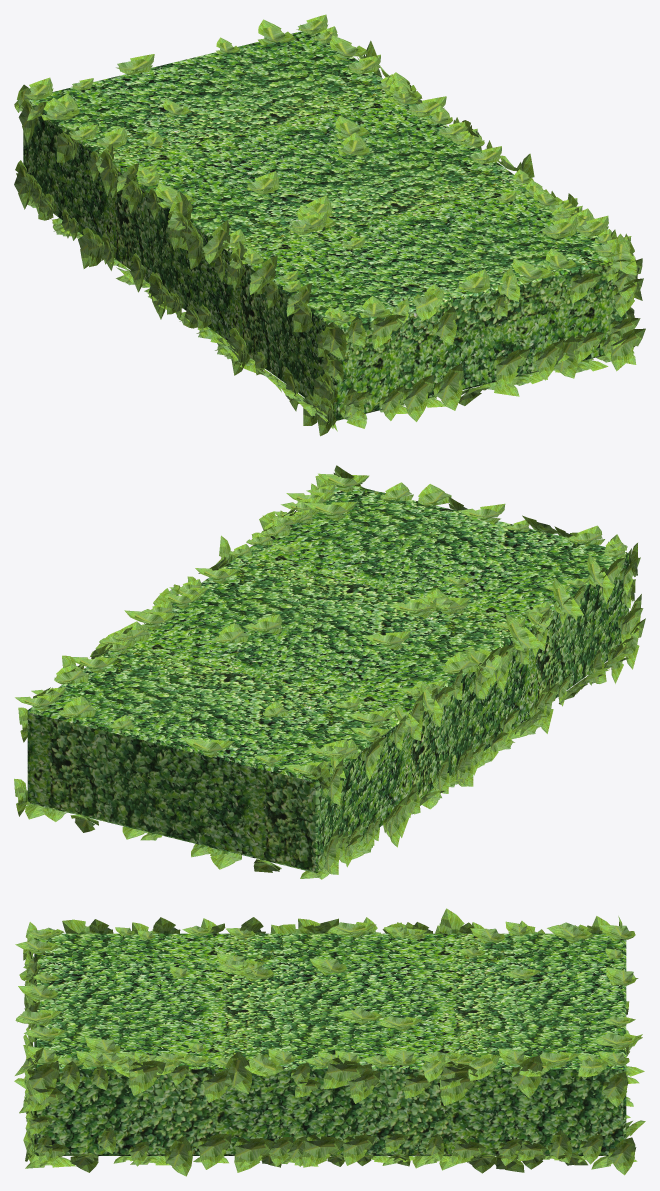
3 views of the same model, one above another, from view 1: azimuth 30°, elevation 25°; view 2: azimuth 150°, elevation 25°; view 3: azimuth 270°, elevation 25° (orthographic). The views are drawn at different scales.
Visible parts, largest first — view 1: _29_15_Ger, Boxwood132, Boxwood130, Boxwood134, Boxwood146, Boxwood156, Boxwood166, Boxwood142, Boxwood165, Boxwood_72, Boxwood_98, Boxwood136 (+3 smaller); view 2: _29_15_Ger, Boxwood_98, Boxwood_91, Boxwood_99; view 3: _29_15_Ger, Boxwood191, Boxwood184, Boxwood255, Boxwood153, Boxwood180, Boxwood224, Boxwood226, Boxwood248, Boxwood177, Boxwood244, Boxwood207 (+33 smaller).
Part boxes in pixels (x1=…): _29_15_Ger: x1=23, y1=31, x2=627, y2=420; Boxwood132: x1=433, y1=363, x2=463, y2=410; Boxwood130: x1=400, y1=374, x2=433, y2=421; Boxwood134: x1=492, y1=349, x2=529, y2=389; Boxwood146: x1=607, y1=328, x2=645, y2=371; Boxwood156: x1=608, y1=233, x2=636, y2=275; Boxwood166: x1=370, y1=314, x2=406, y2=349; Boxwood142: x1=553, y1=335, x2=578, y2=378; Boxwood165: x1=412, y1=290, x2=444, y2=320; Boxwood_72: x1=321, y1=321, x2=346, y2=359; Boxwood_98: x1=202, y1=220, x2=230, y2=263; Boxwood136: x1=533, y1=340, x2=562, y2=380; _29_15_Ger: x1=27, y1=485, x2=628, y2=873; Boxwood_98: x1=506, y1=613, x2=542, y2=651; Boxwood_91: x1=552, y1=577, x2=583, y2=616; Boxwood_99: x1=465, y1=648, x2=501, y2=677; _29_15_Ger: x1=34, y1=933, x2=626, y2=1155; Boxwood191: x1=302, y1=1134, x2=344, y2=1167; Boxwood184: x1=232, y1=1138, x2=273, y2=1172; Boxwood255: x1=323, y1=1057, x2=366, y2=1089; Boxwood153: x1=24, y1=1062, x2=59, y2=1103; Boxwood180: x1=195, y1=1133, x2=231, y2=1169; Boxwood224: x1=127, y1=1060, x2=165, y2=1095; Boxwood226: x1=222, y1=1052, x2=251, y2=1093; Boxwood248: x1=511, y1=1055, x2=543, y2=1097; Boxwood177: x1=165, y1=1136, x2=192, y2=1176; Boxwood244: x1=438, y1=1072, x2=477, y2=1105; Boxwood207: x1=608, y1=1137, x2=636, y2=1175.
Size of the model in its own units: 150 by 59.8 by 261.
Materials: 2 (2 with a texture image).
